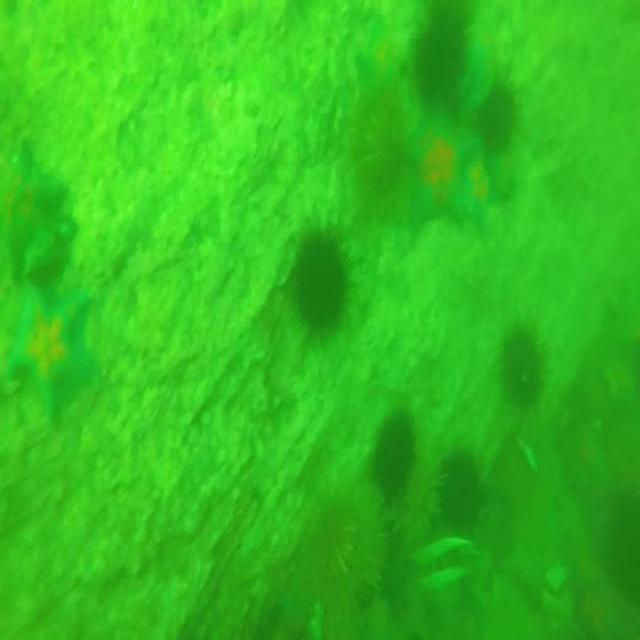echinus: (0, 275, 95, 425), (398, 115, 475, 237), (288, 229, 357, 341), (354, 93, 406, 207), (418, 3, 468, 112), (301, 498, 358, 592), (372, 412, 418, 500), (479, 77, 526, 155), (438, 451, 484, 522), (504, 322, 540, 410)
